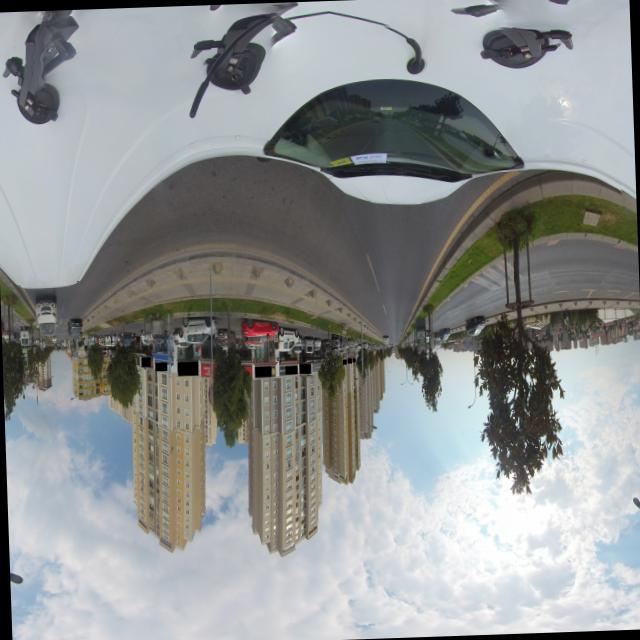SignStore: (176, 360, 197, 374), (254, 365, 270, 376), (298, 363, 310, 373), (284, 364, 296, 373), (154, 361, 166, 370), (140, 356, 149, 365), (341, 358, 345, 363), (346, 357, 350, 362), (351, 357, 354, 361)
